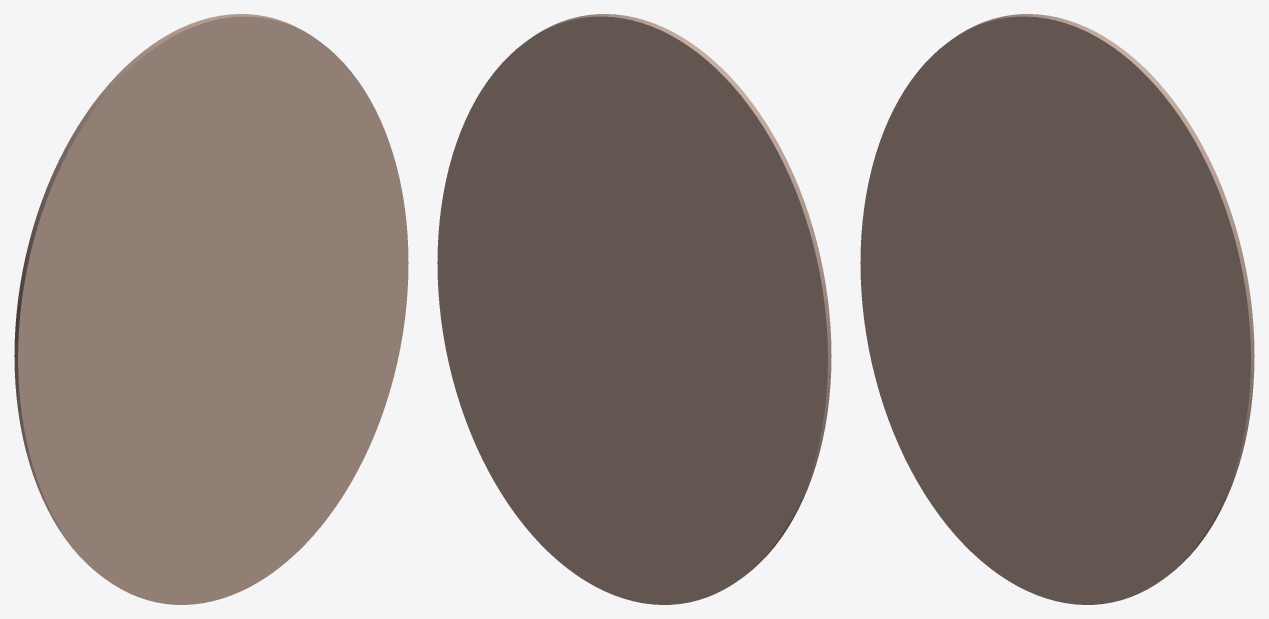
File: skin.glb
3 views of the same model, side by side, from view 1: azimuth 30°, elevation 25°; view 2: azimuth 150°, elevation 25°; view 3: azimuth 330°, elevation 25° (orthographic).
Parts seen in each view (by area): view 1: skin; view 2: skin; view 3: skin.
Boxes of the visible parts, <box> form: skin: <box>14,14,408,604</box>; skin: <box>437,14,831,604</box>; skin: <box>860,14,1254,604</box>.
Size of the model in its own units: 0.38 by 0.54 by 0.006.
